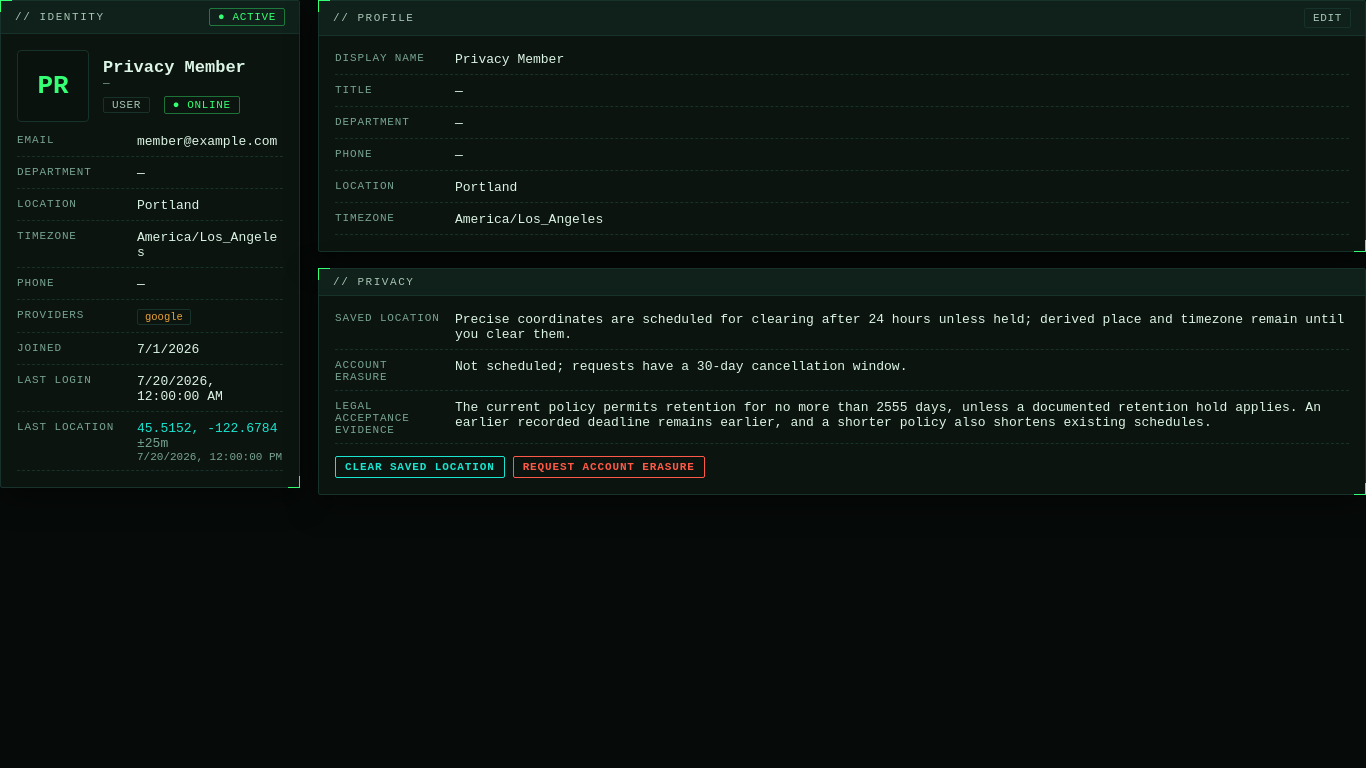
Test: UserProfile privacy controls › clears the signed-in user's saved location after explicit confirmation
Click the button "Clear saved location" at (420, 467), box [335,456,505,478]
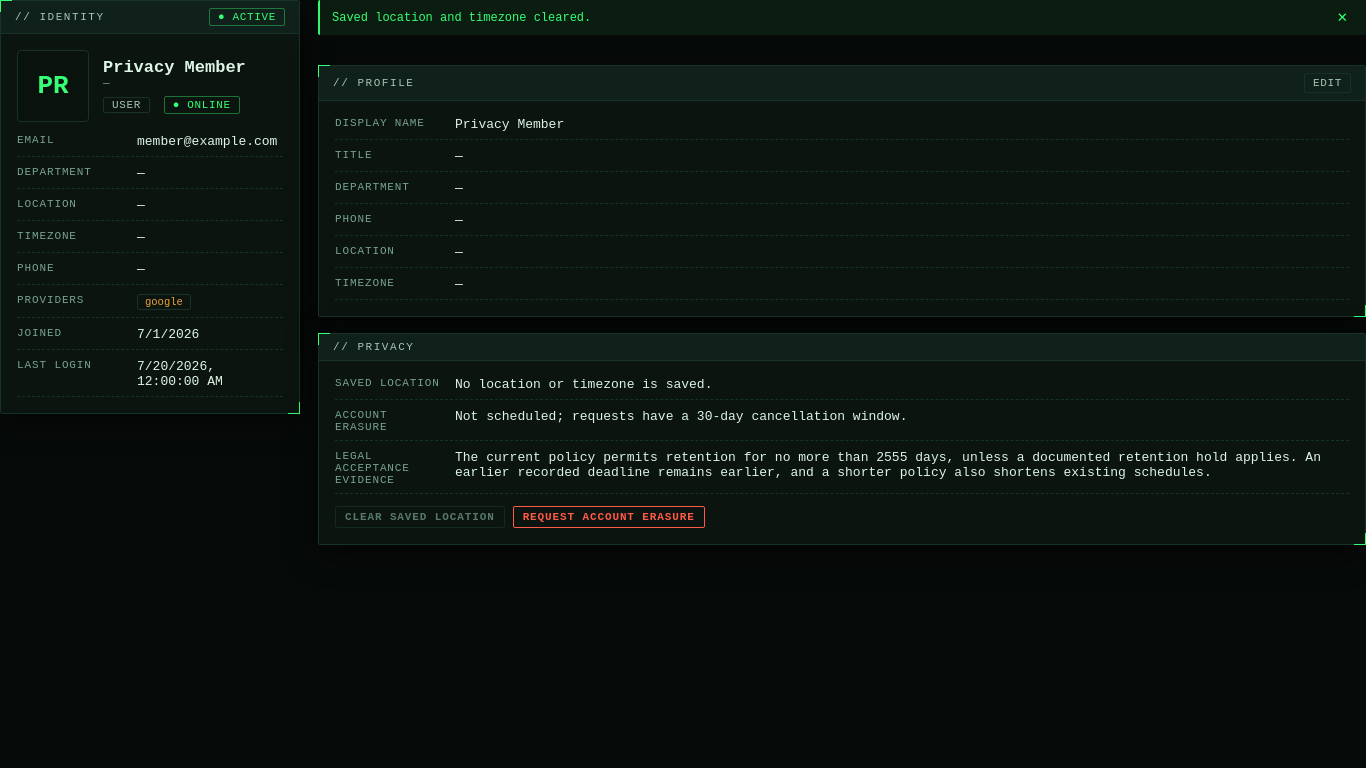
Expected: the text "Saved location and timezone cleared." is shown, [332,10,591,24]
Expected: the button "Clear saved location" is disabled, [335,506,505,528]
